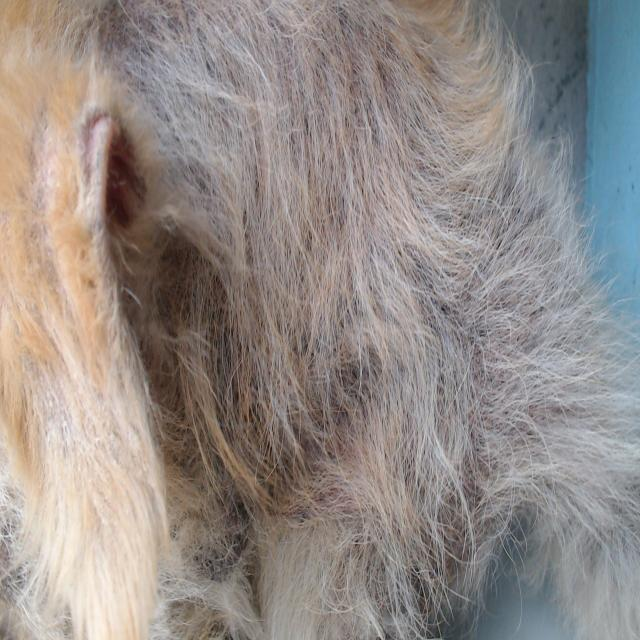demodicosis: (48, 100, 118, 192)
